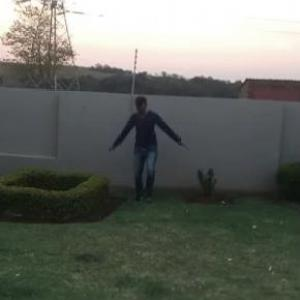land: (107, 97, 187, 210)
